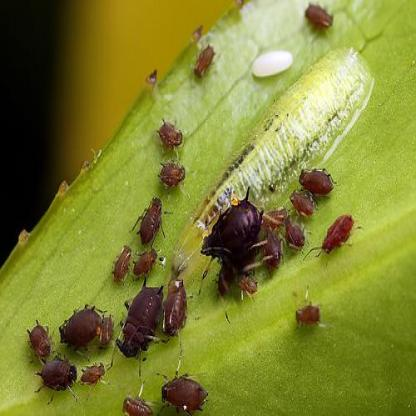aphid: (114, 278, 168, 367), (199, 194, 262, 258), (58, 302, 115, 352), (157, 367, 210, 416), (31, 352, 76, 402), (293, 0, 342, 41), (162, 274, 191, 342), (317, 214, 358, 257), (132, 194, 167, 243), (188, 36, 223, 85), (293, 161, 336, 200), (292, 297, 324, 333), (24, 321, 53, 359), (234, 260, 258, 305), (155, 115, 184, 150), (130, 248, 160, 280), (260, 232, 285, 270), (78, 360, 110, 389), (111, 244, 133, 283), (288, 186, 313, 220), (159, 158, 187, 188), (283, 218, 306, 254), (122, 391, 153, 416), (99, 308, 116, 351)
